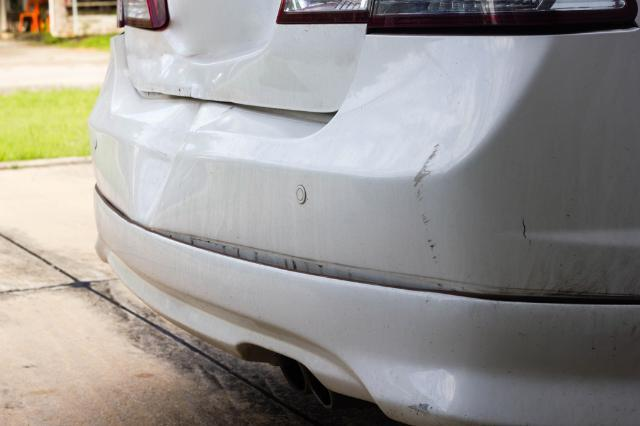dent: (139, 103, 230, 224)
scratch: (410, 142, 444, 272)
